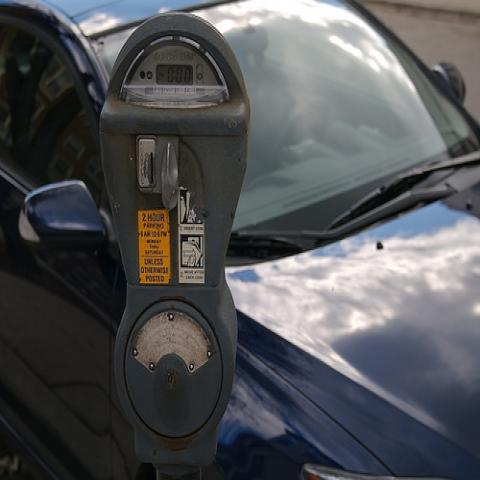car: (0, 0, 478, 472)
